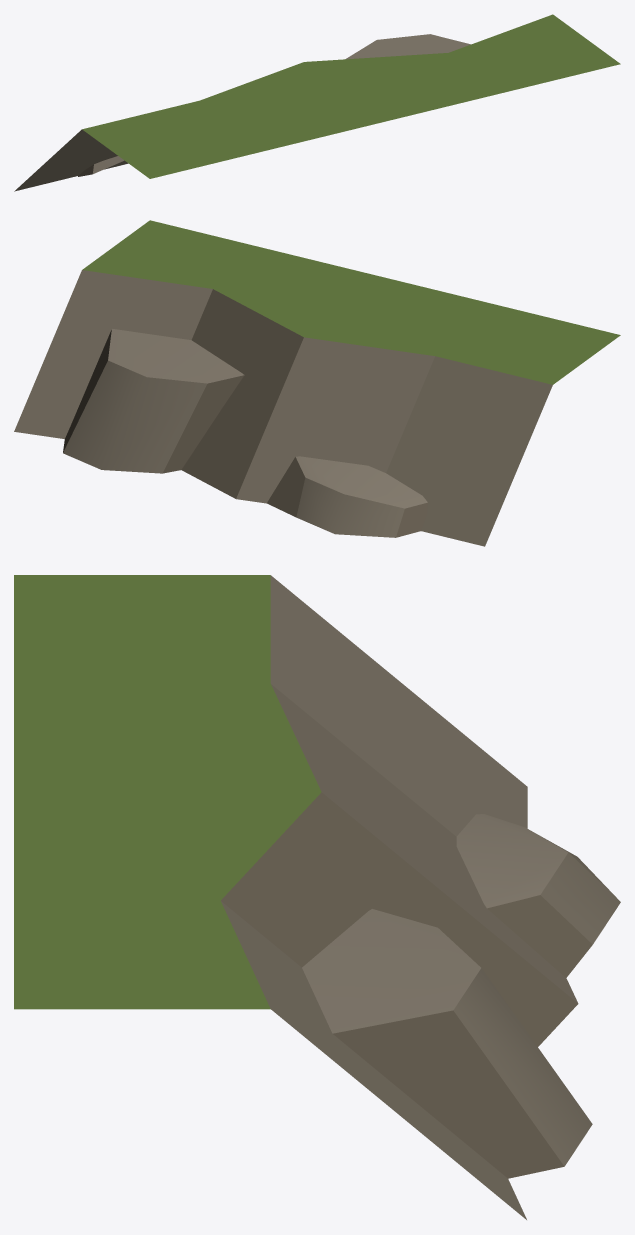
File: SF_Env_River_Straight_01.fbx
The picture shows the model from 3 angles, top to bottom: view 1: azimuth 30°, elevation 25°; view 2: azimuth 150°, elevation 25°; view 3: azimuth 270°, elevation 25°; orthographic projection. The views are drawn at different scales.
Parts seen in each view (by area): view 1: SF_Env_River_Straight_01; view 2: SF_Env_River_Straight_01; view 3: SF_Env_River_Straight_01.
Part boxes in pixels (x1,y1,x2,y2): SF_Env_River_Straight_01: (14, 14, 620, 191); SF_Env_River_Straight_01: (14, 220, 620, 546); SF_Env_River_Straight_01: (14, 575, 620, 1219).
Bounding box in the file's own units: 10 × 2.27 × 5.91.
